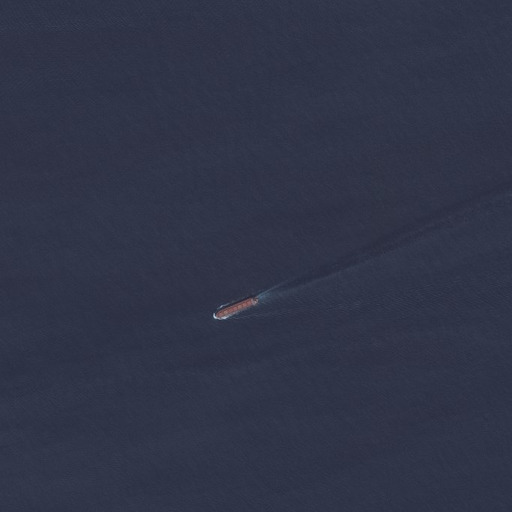ship: (211, 294, 260, 324)
